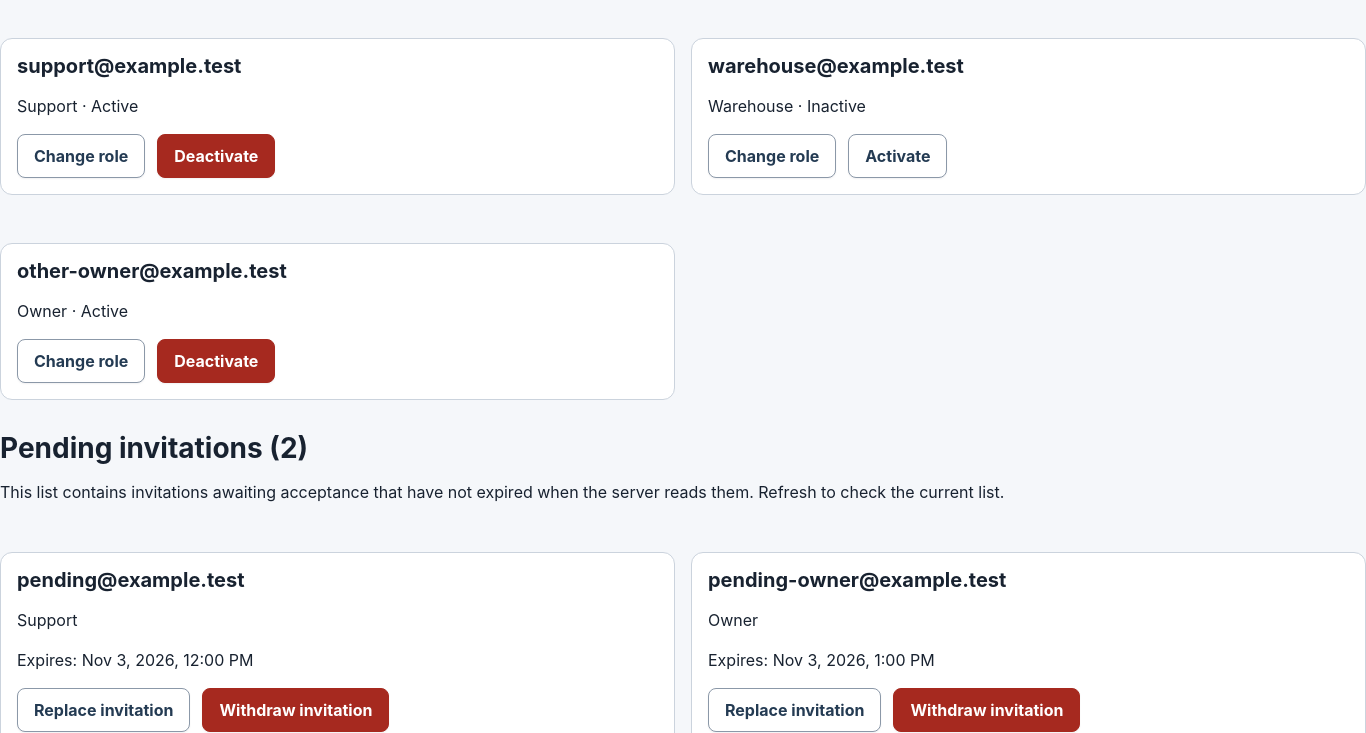
Test case: prevents self role/activity changes and permits an owner to change another owner explicitly
(page scrolled)
Click the button with aria-label "Change role for other-owner@example.test": coordinates (81, 361) 17,339 -> 145,383
(page scrolled)
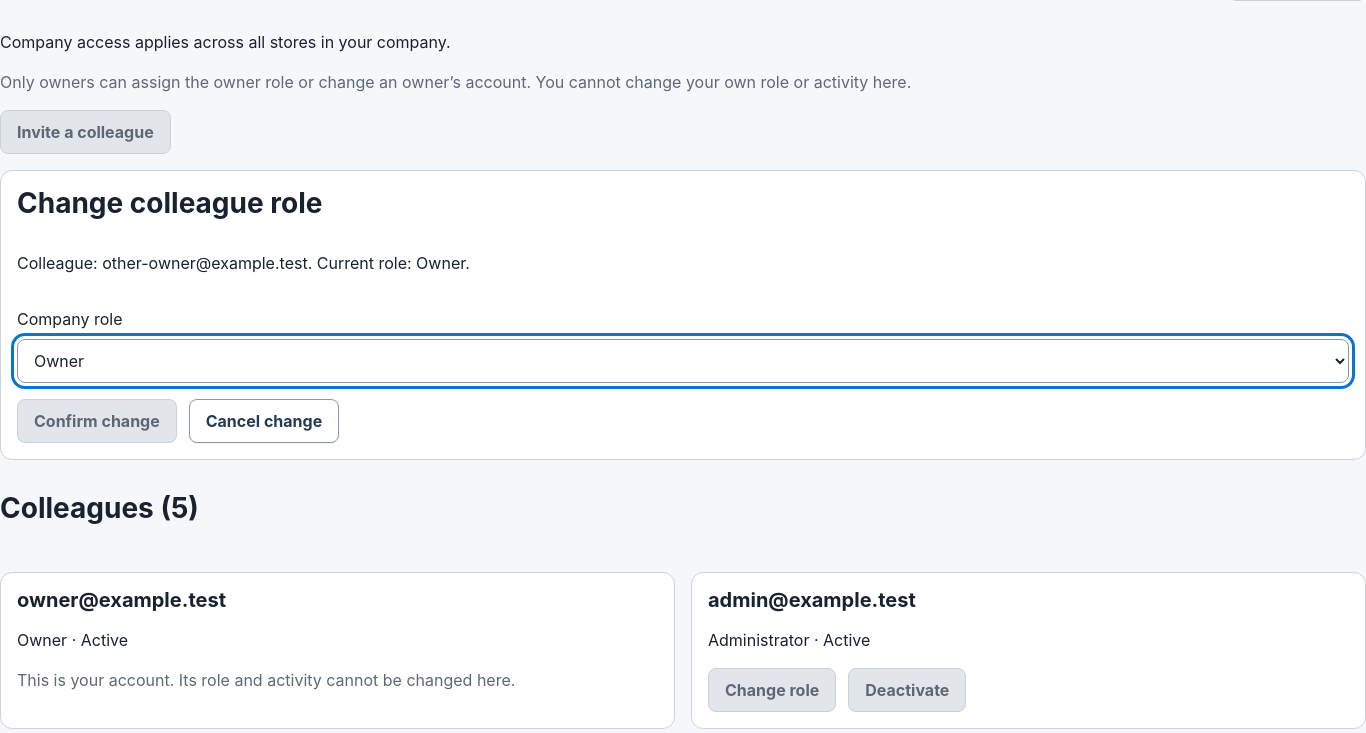
Select "Support" in the dropdown: coordinates (683, 361) 17,339 -> 1349,383
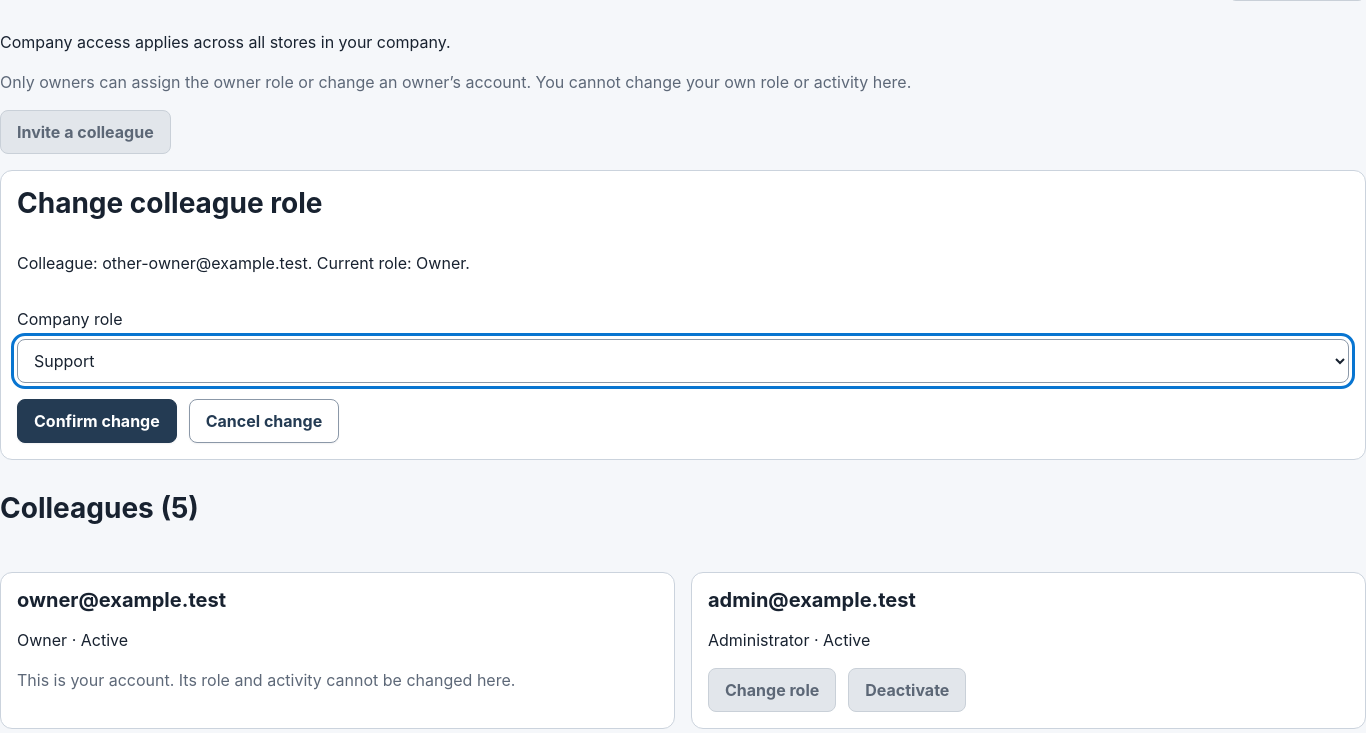
Click the button "Confirm change": coordinates (97, 421) 17,399 -> 177,443
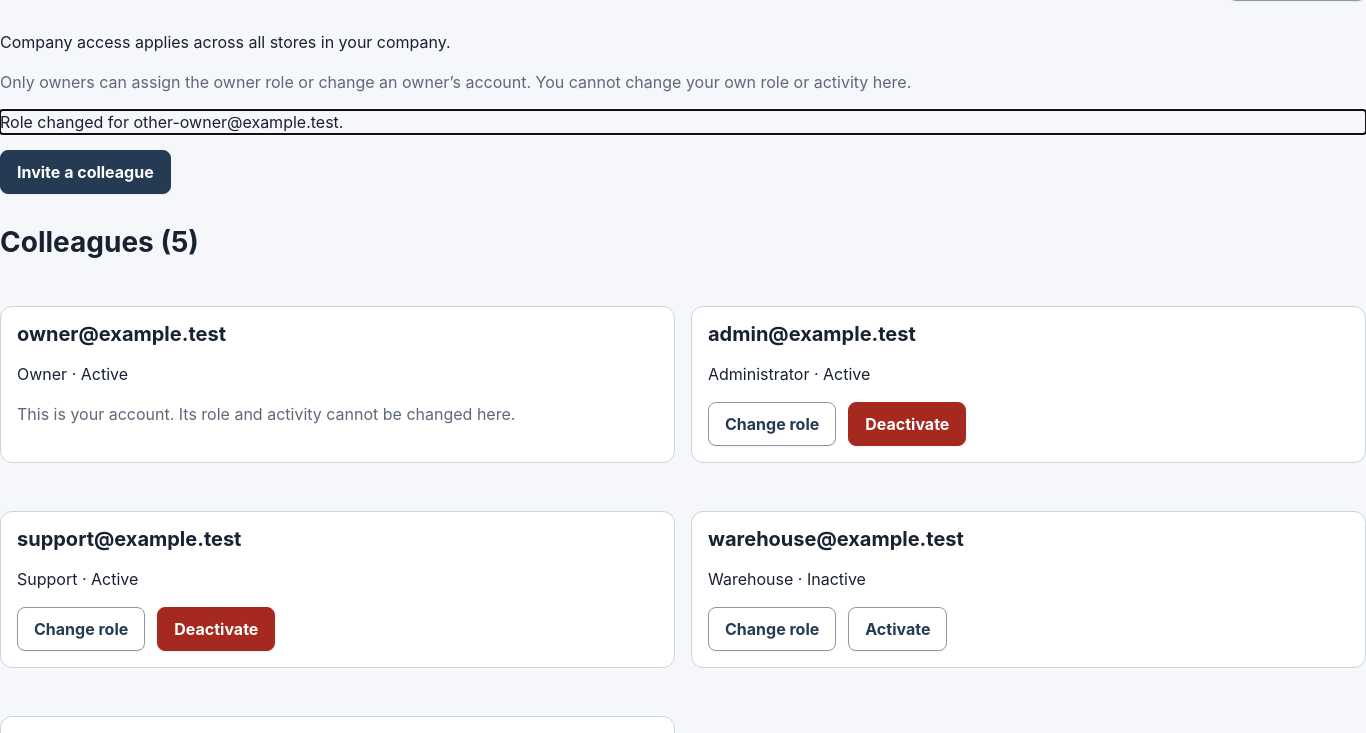
expect the text "Role changed for other-owner@example.test." is shown: met, box 0,112 -> 343,132
